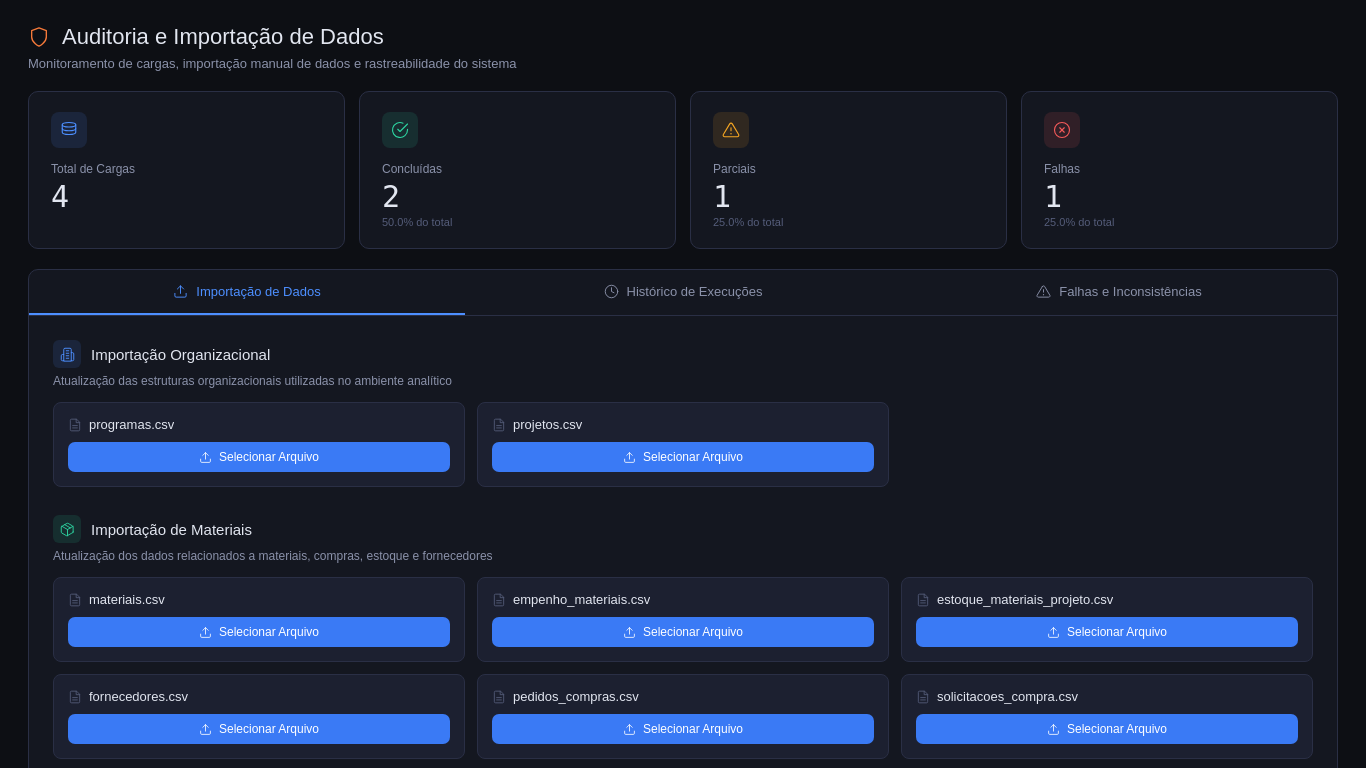
Auditoria.vue › Aba Falhas e Inconsistências › exibe subtítulo da aba
The image size is (1366, 768).
What coordinates should you click on to do the following:
click the button with class "tab-btn" showing "Falhas e Inconsistências"
I would click on:
 (1119, 292)
Its box is [901,270,1337,315].
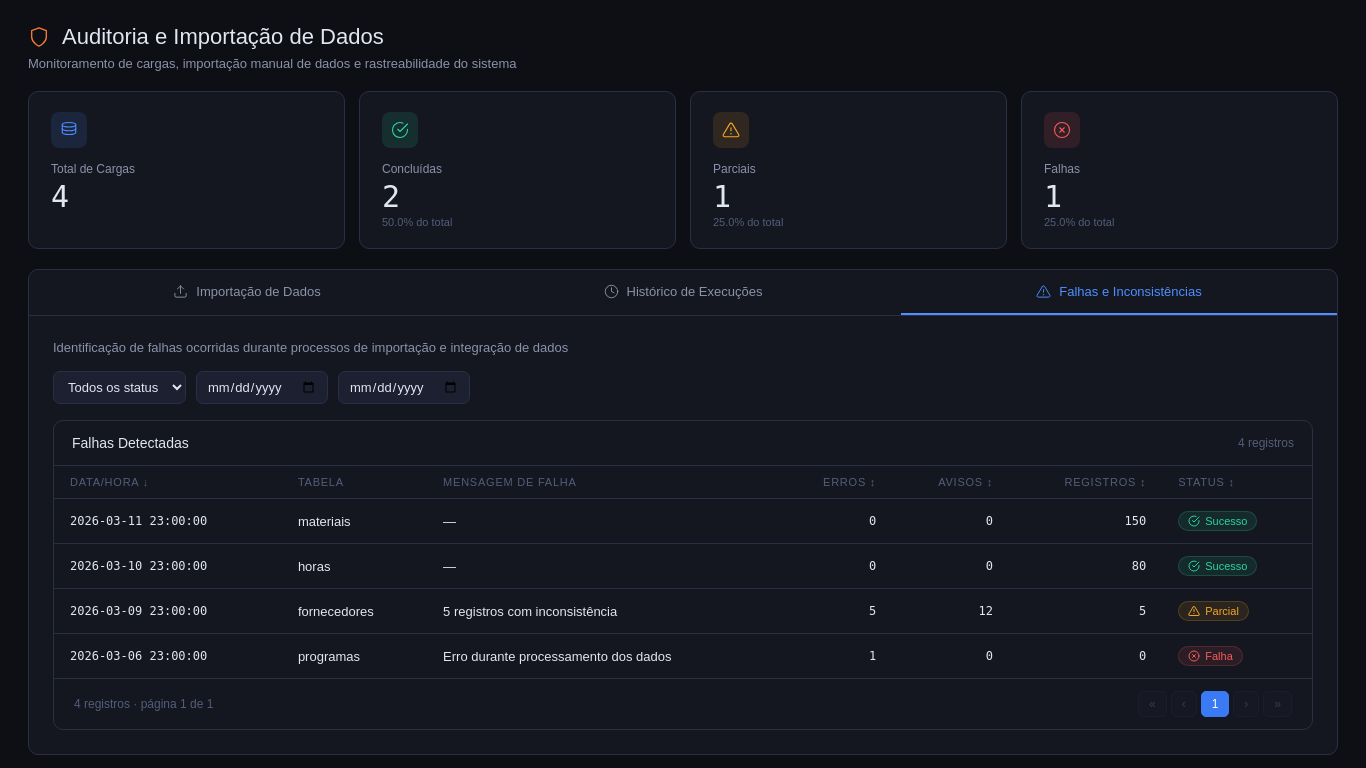
Expected: the text "Identificação de falhas" is shown, [53,340,568,355]
